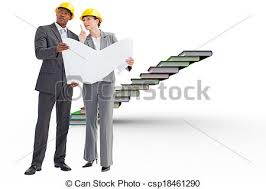Person_wearing_helmet: (77, 6, 104, 25), (52, 1, 76, 18)
